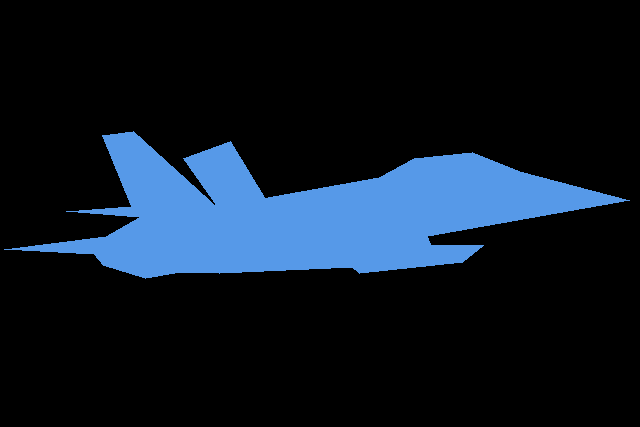Airplane: (4, 131, 629, 279)
